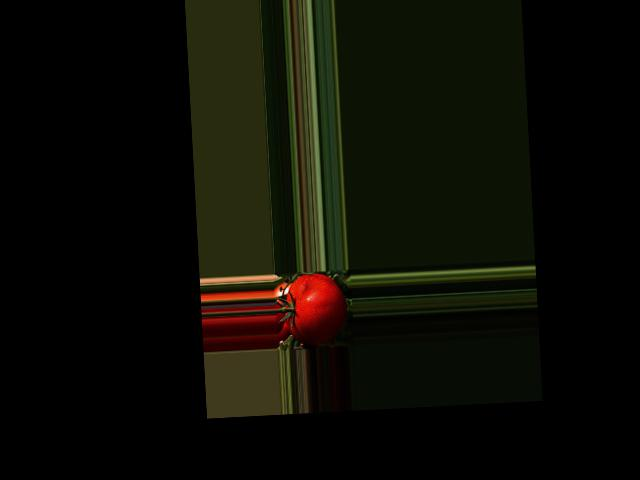tomato: (283, 271, 348, 346)
